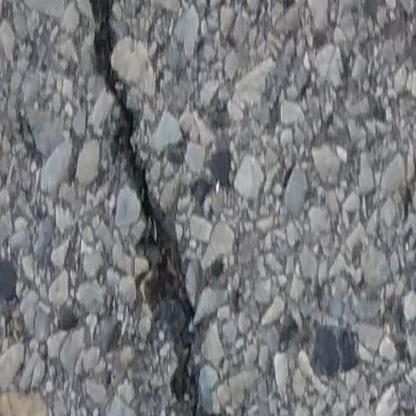Cracks: (83, 0, 220, 416)
